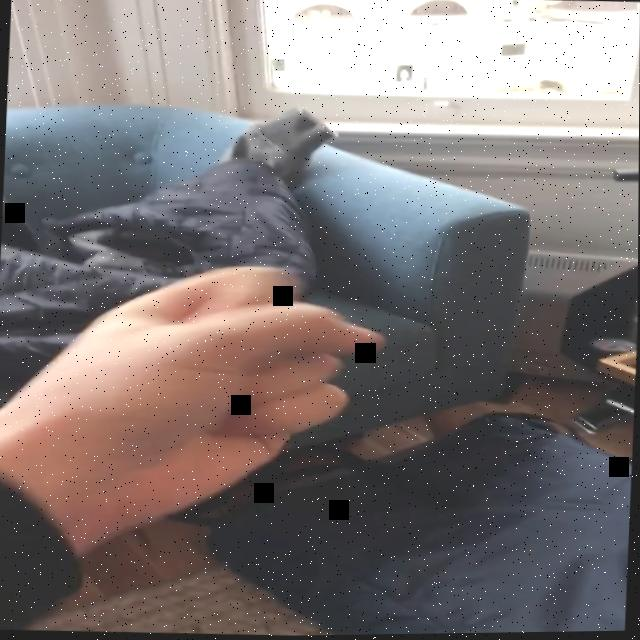Rock: (18, 257, 387, 533)
